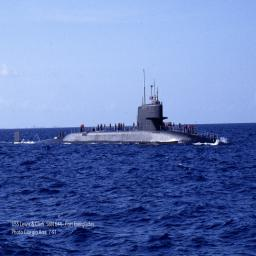submarine: (15, 69, 227, 146)
